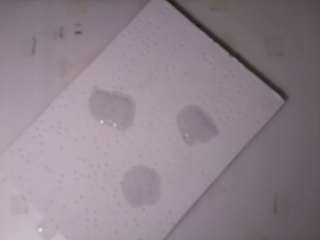Water_detected: (180, 105, 218, 143), (97, 97, 135, 131), (129, 173, 165, 205)
